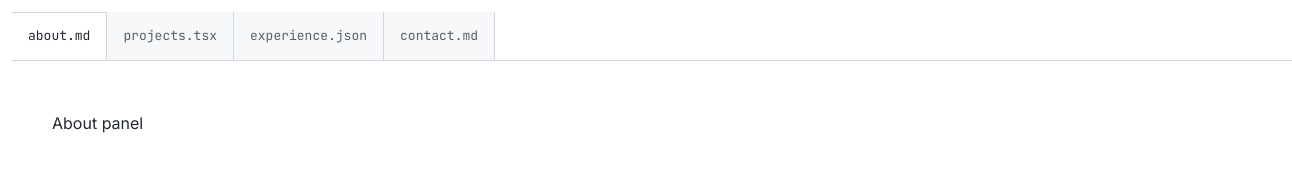
Scenario: EditorTabBar › activates panels by click and keeps only active panel visible
Click the tab "projects.tsx". click: (171, 36)
box: [107,12,234,60]
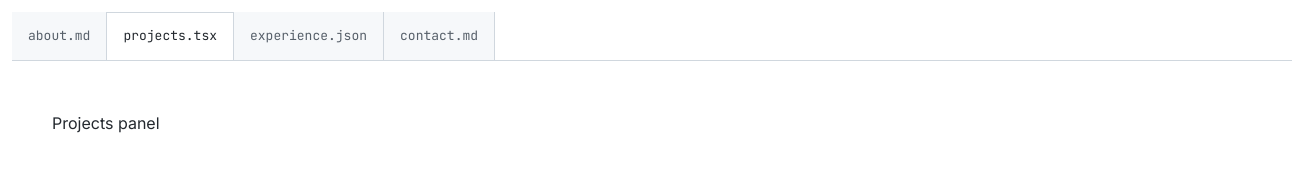
expect the panel reads "Projects panel": met, box [52,113,160,133]
